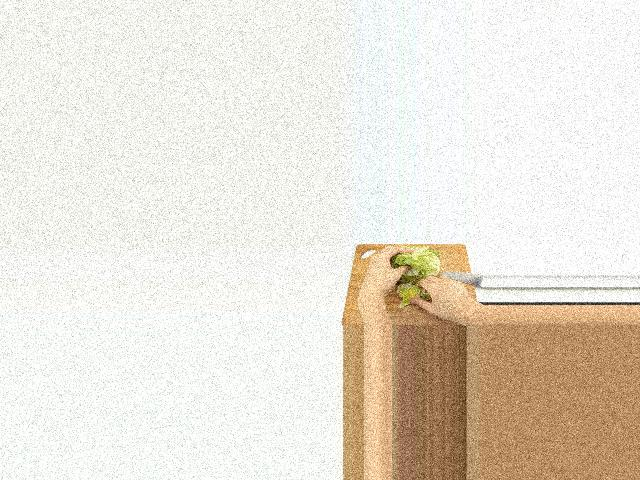lettuce: (393, 247, 441, 280)
